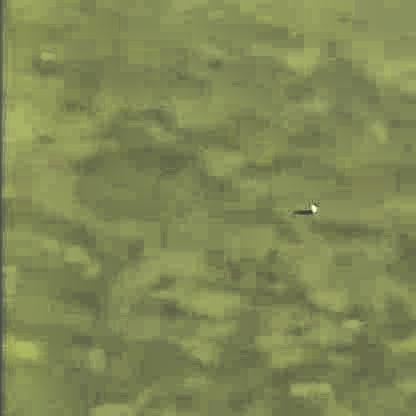golfball: (307, 201, 318, 212)
